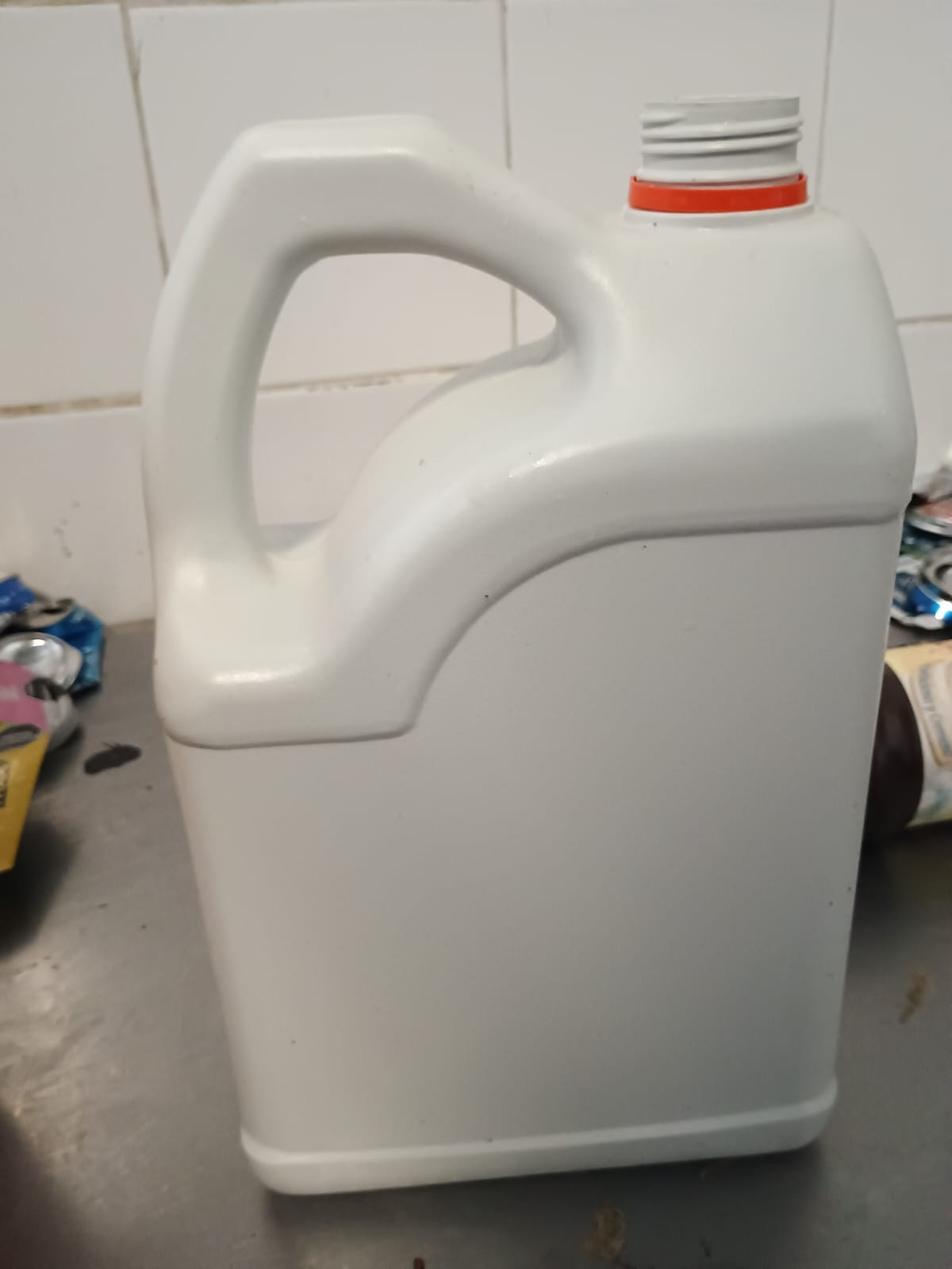Plastico: (136, 94, 919, 1196)
